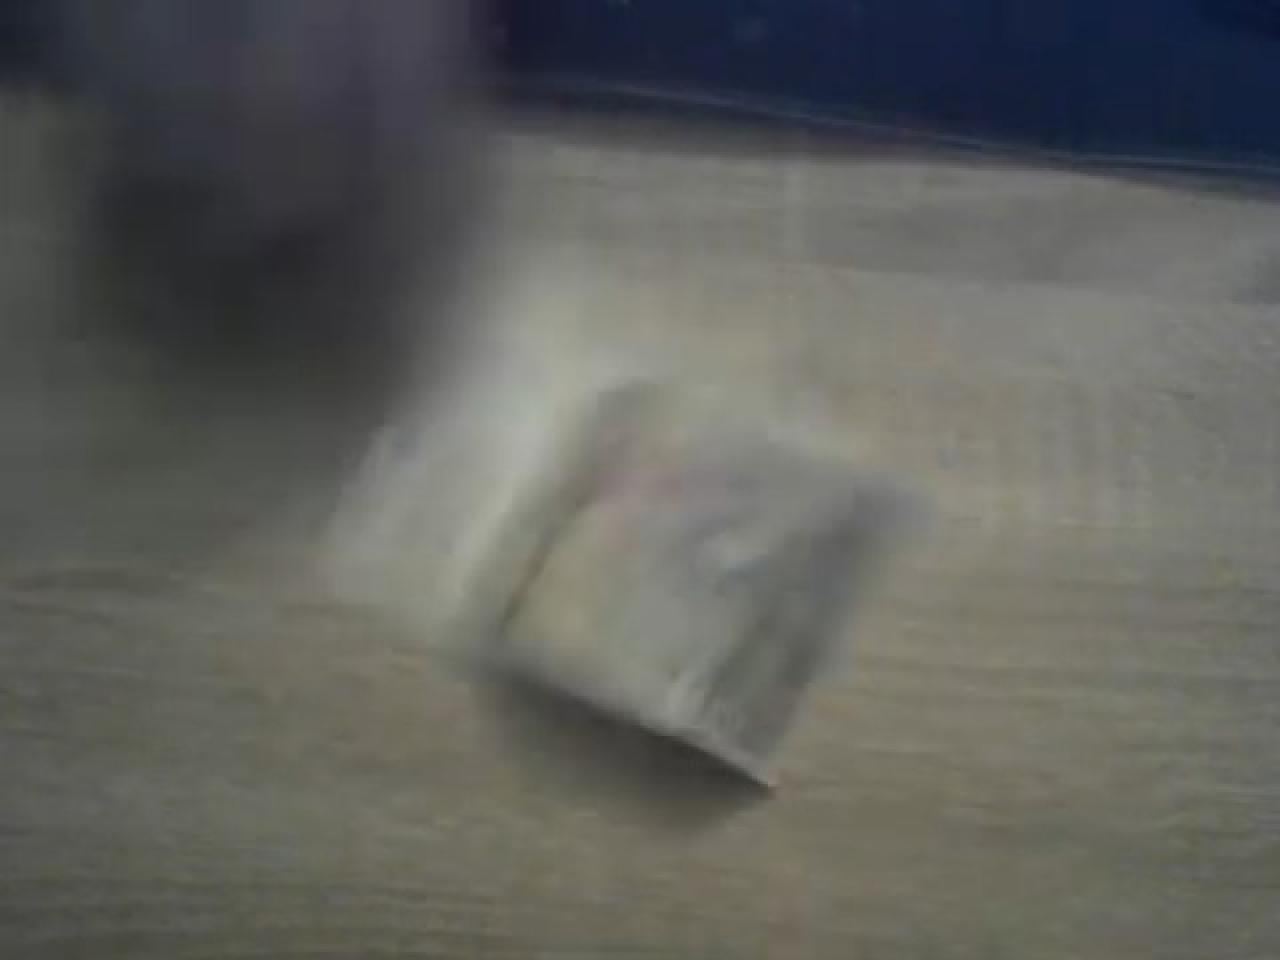10leva: (360, 379, 933, 792)
